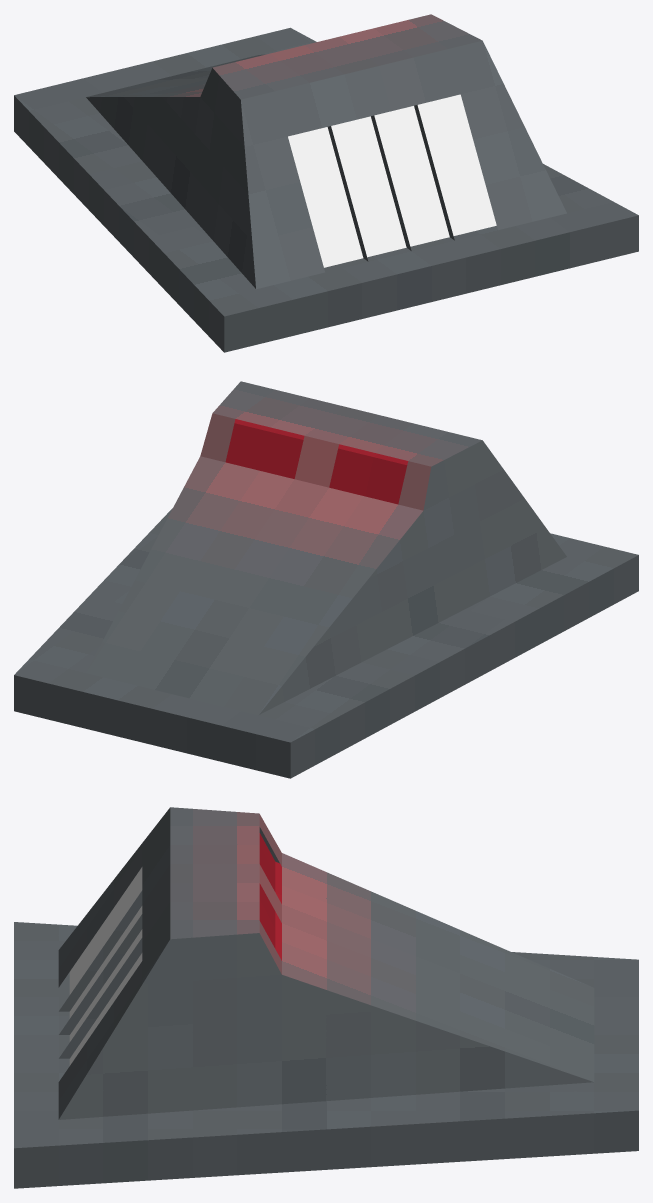
The model's file is hangar_light.obj.
The picture shows the model from 3 angles, top to bottom: view 1: azimuth 30°, elevation 25°; view 2: azimuth 150°, elevation 25°; view 3: azimuth 270°, elevation 25°; orthographic projection. The views are drawn at different scales.
Visible parts, largest first — view 1: Cube.008; view 2: Cube.008; view 3: Cube.008.
Part boxes in pixels (x1=…): Cube.008: x1=14, y1=14, x2=638, y2=352; Cube.008: x1=14, y1=381, x2=638, y2=778; Cube.008: x1=14, y1=807, x2=638, y2=1188.
Bounding box in the file's own units: 1.2 × 0.5 × 1.4.
